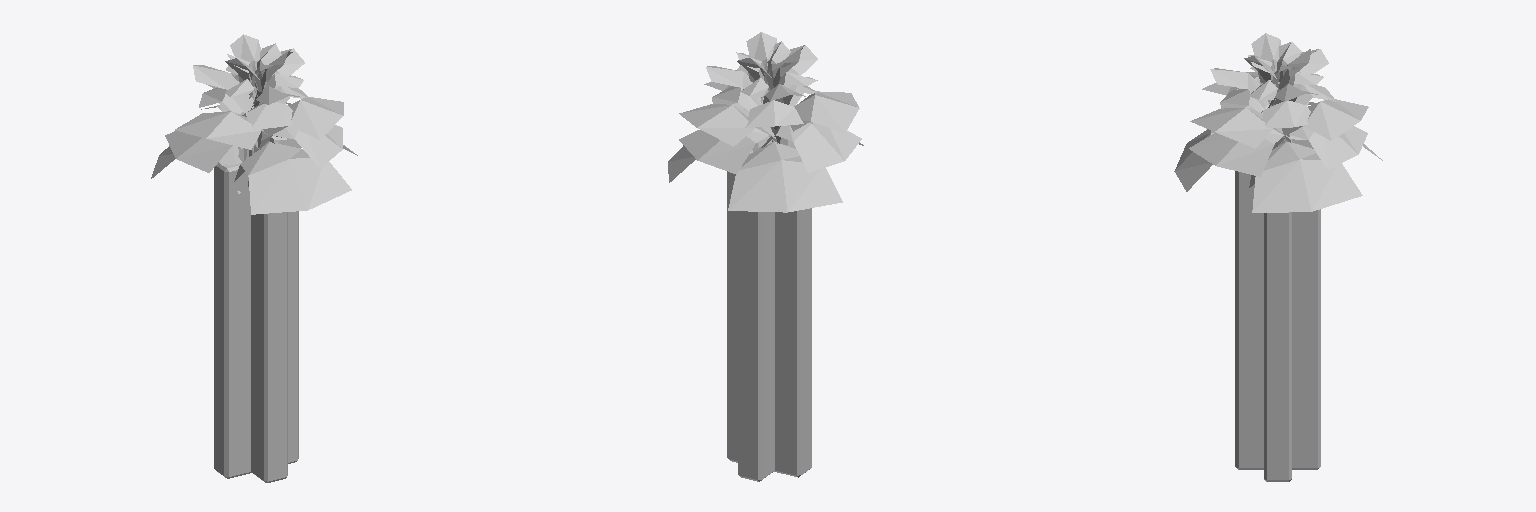
The model's file is cross_shrub.obj.
3 views of the same model, side by side, from view 1: azimuth 30°, elevation 25°; view 2: azimuth 150°, elevation 25°; view 3: azimuth 270°, elevation 25° (orthographic).
Parts seen in each view (by area): view 1: Shrub_cross_Shrub; view 2: Shrub_cross_Shrub; view 3: Shrub_cross_Shrub.
Boxes of the visible parts, box(x1,y1,x2,y2) form: Shrub_cross_Shrub: box(151, 34, 357, 482); Shrub_cross_Shrub: box(668, 32, 863, 481); Shrub_cross_Shrub: box(1174, 33, 1382, 481).
Bounding box in the file's own units: 0.6081 × 1.35 × 0.6152.